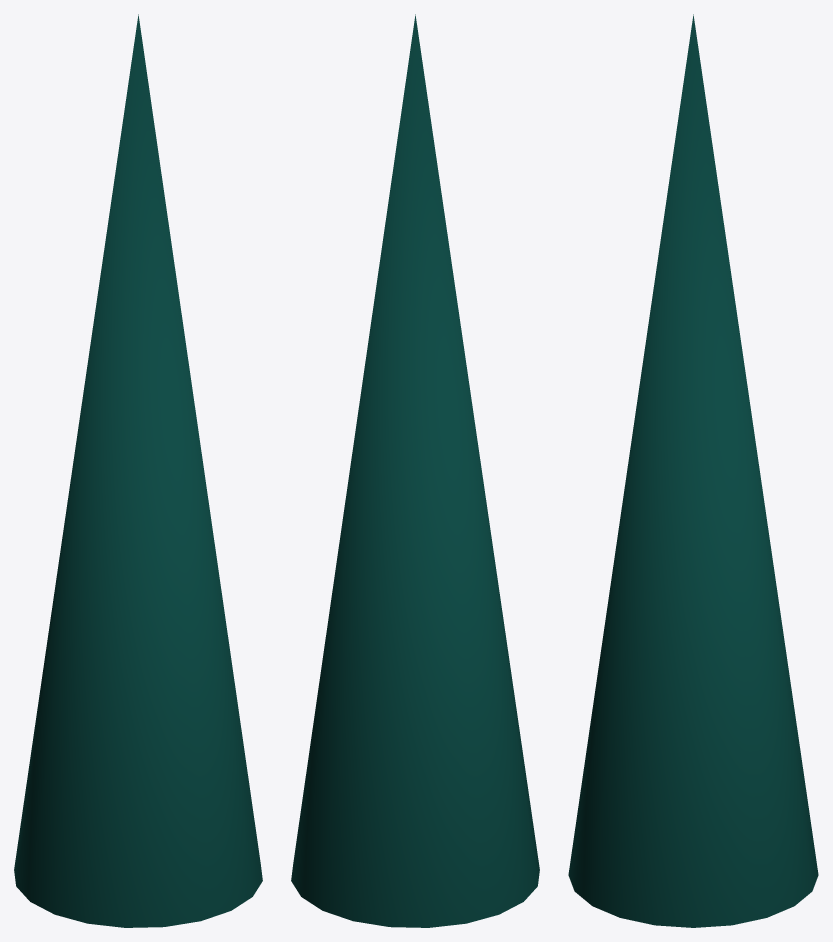
Rendered from Pino_03.fbx.
The picture shows the model from 3 angles, left to right: view 1: azimuth 30°, elevation 25°; view 2: azimuth 150°, elevation 25°; view 3: azimuth 270°, elevation 25°; orthographic projection.
Visible parts, largest first — view 1: Pino_03; view 2: Pino_03; view 3: Pino_03.
Part boxes in pixels (<box>): Pino_03: <box>14,14,262,927</box>; Pino_03: <box>291,14,539,927</box>; Pino_03: <box>568,14,818,927</box>.
Size of the model in its own units: 10.33 by 39.24 by 10.33.
